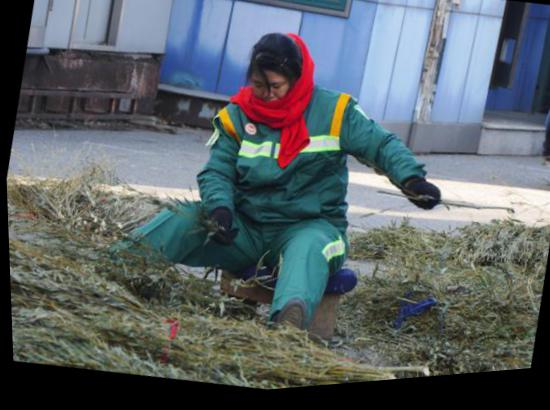WRONG: (243, 70, 292, 121)
